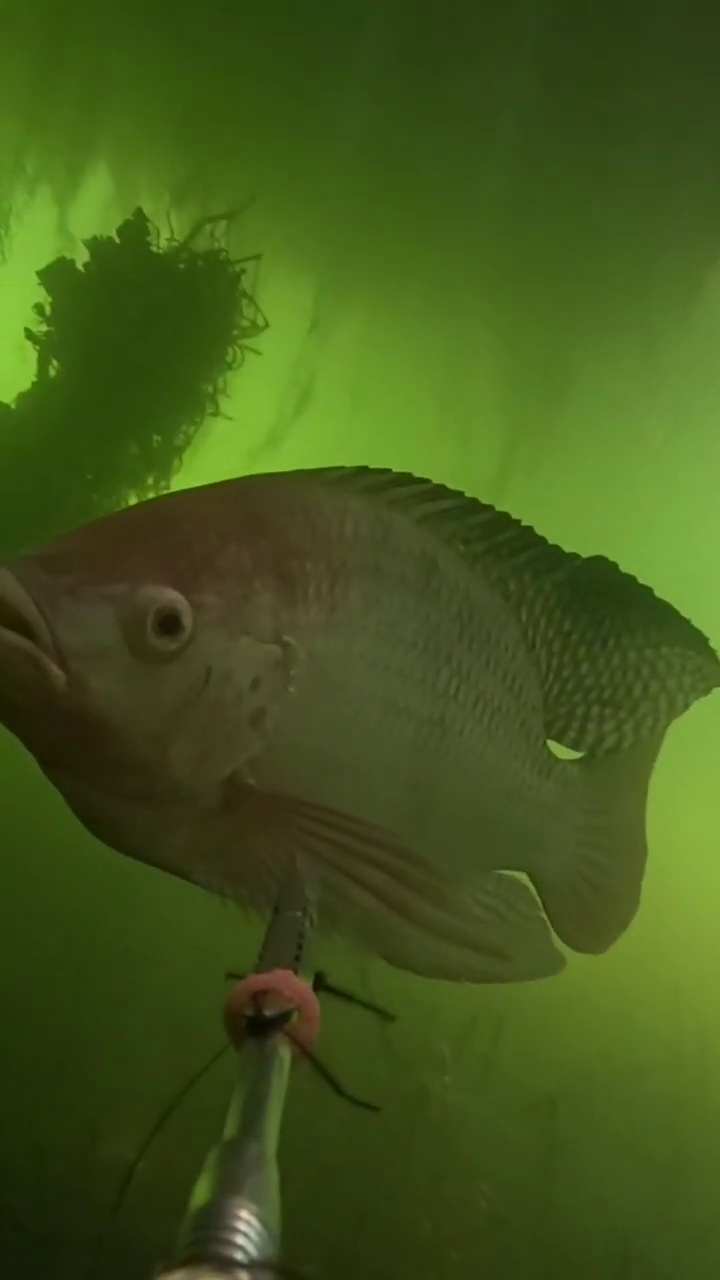Tilapia: (3, 417, 666, 956)
